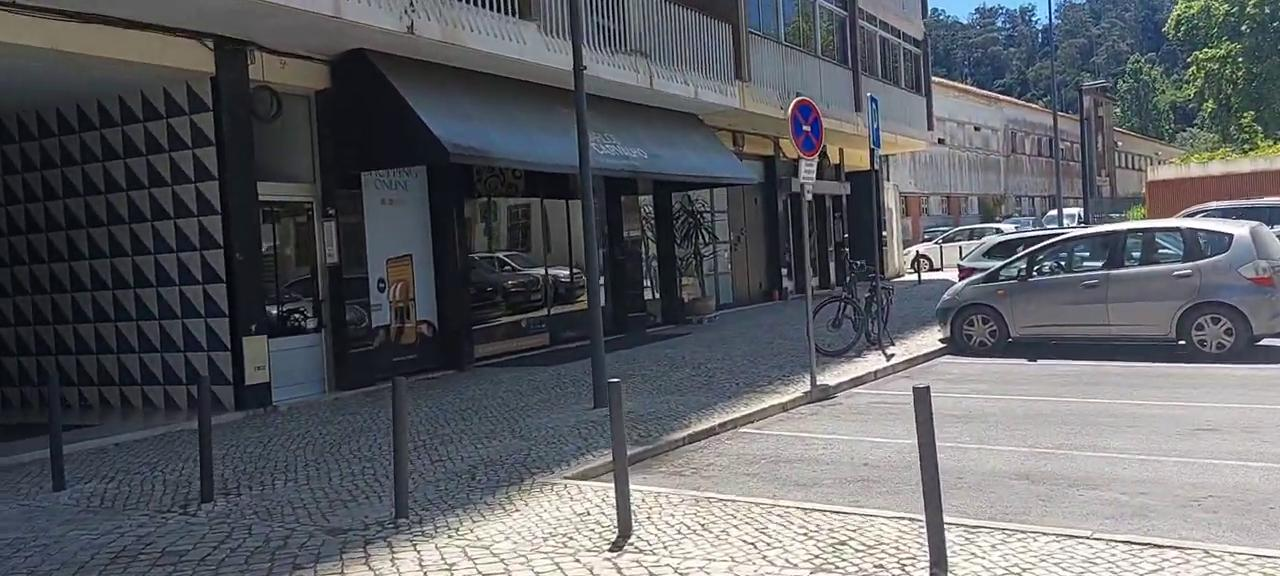paragem e estacionamento proibido: (787, 96, 828, 162)
